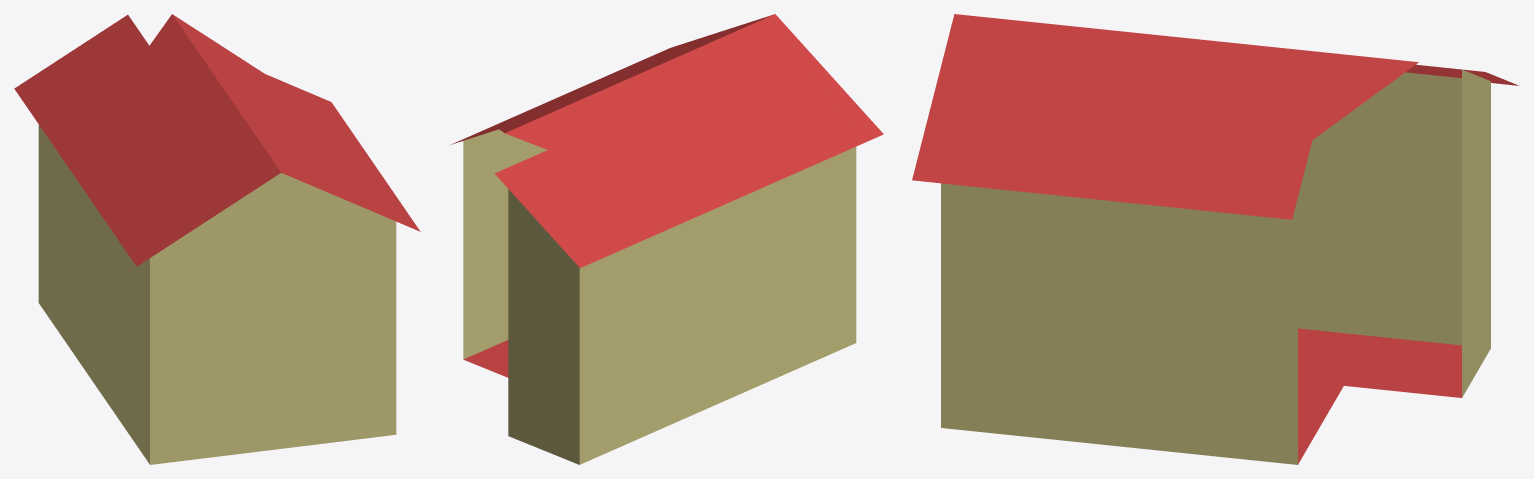
3 renders of one model, left to right at view 1: azimuth 30°, elevation 25°; view 2: azimuth 150°, elevation 25°; view 3: azimuth 270°, elevation 25°, orthographic. The views are drawn at different scales.
Size of the model in its own units: 13.88 by 18.97 by 12.
